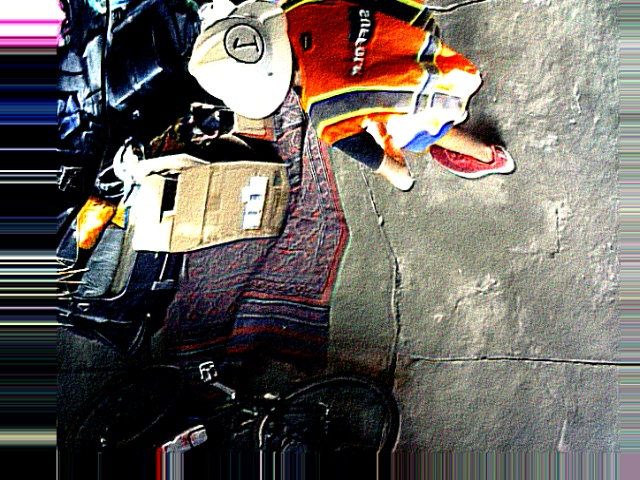one: (220, 21, 267, 67)
